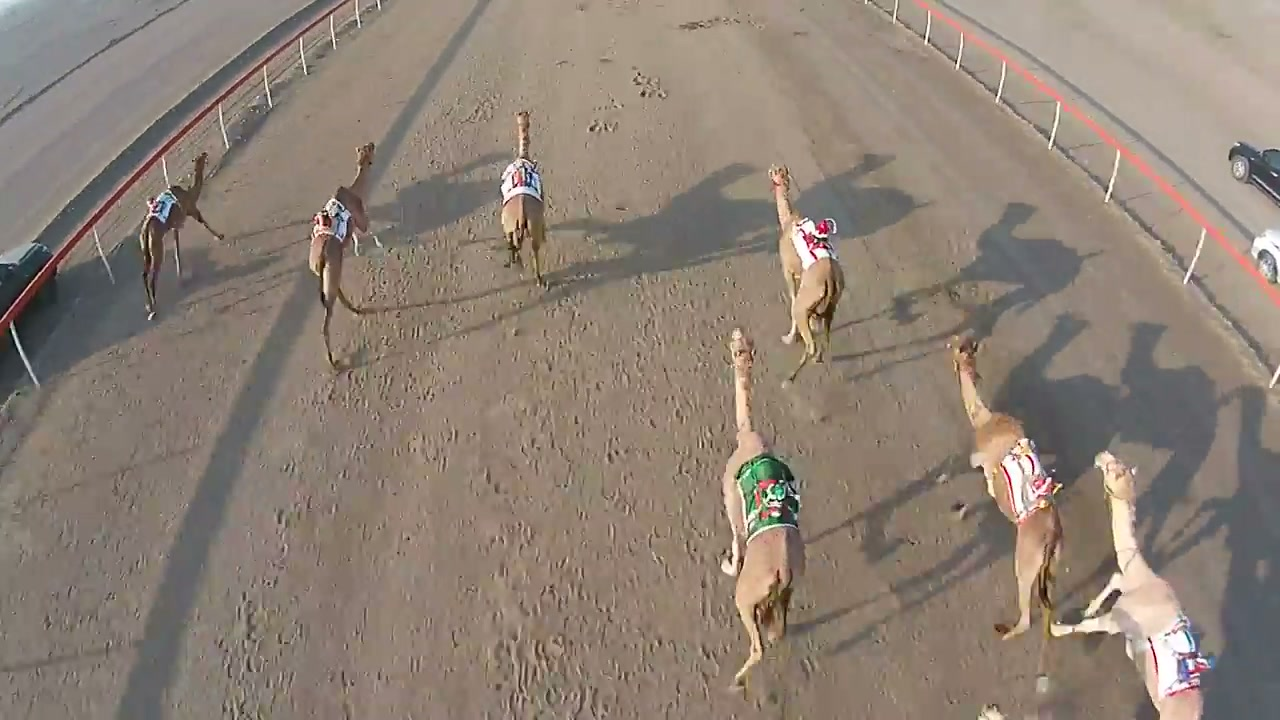animal_foot_print: (475, 284, 639, 713), (231, 366, 388, 708), (758, 606, 839, 718)
